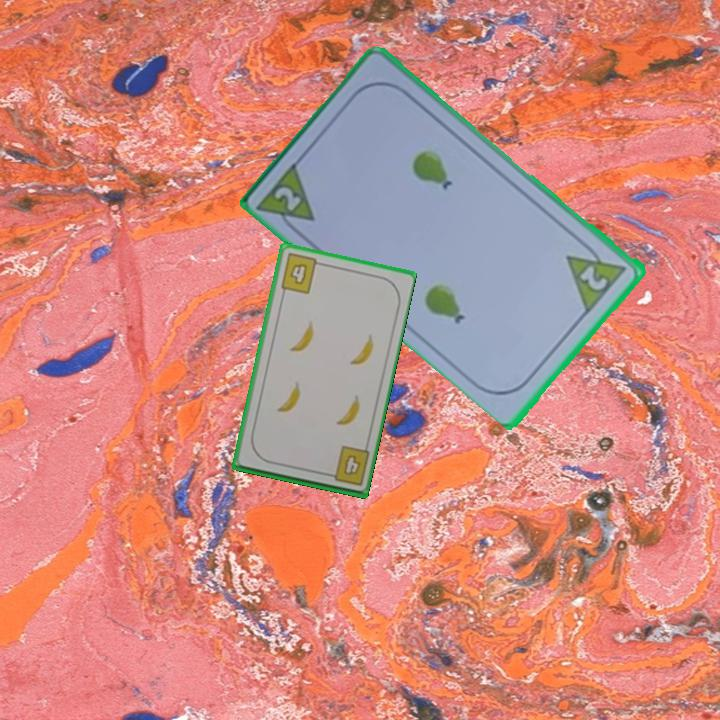2p: (563, 236, 631, 315), (255, 157, 319, 240)
4b: (321, 443, 372, 489), (277, 250, 326, 297)
